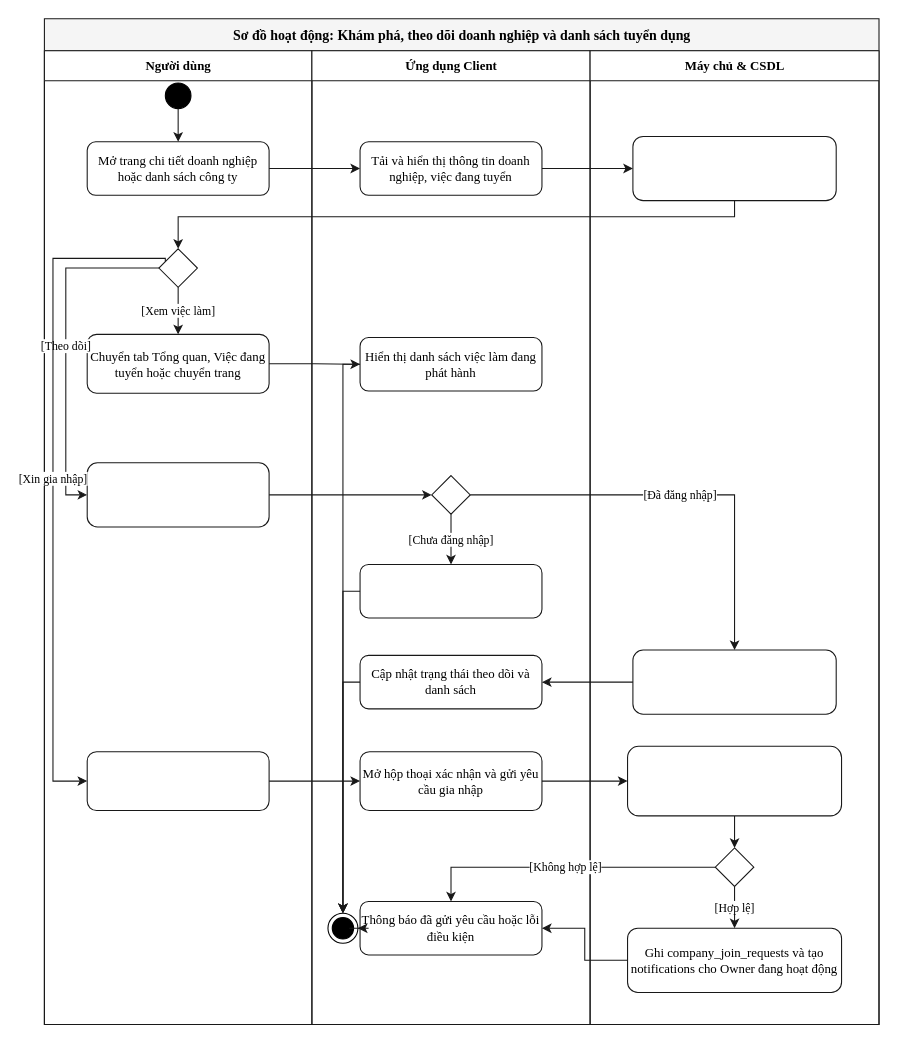
Some shapes in this 898 by 1043 pixel diagram are drawn without their labels. The shapes that lost their labels are listed below. From the top down, each one's centre as x and y in pixels, then its label:
At (734,168): "Truy vấn thông tin công khai companies và job_postings đang phát hành".
At (177,494): "Nhấn Theo dõi / Bỏ theo dõi hoặc tìm trong danh sách đã theo dõi".
At (450,590): "Hiển thị nhắc đăng nhập trước khi thao tác".
At (734,681): "Thêm hoặc xóa liên kết company_follows theo tài khoản hiện tại".
At (177,781): "Nhà tuyển dụng nhấn Gửi yêu cầu gia nhập doanh nghiệp".
At (734,780): "Kiểm tra chưa là thành viên (company_memberships) và chưa có yêu cầu chờ".
